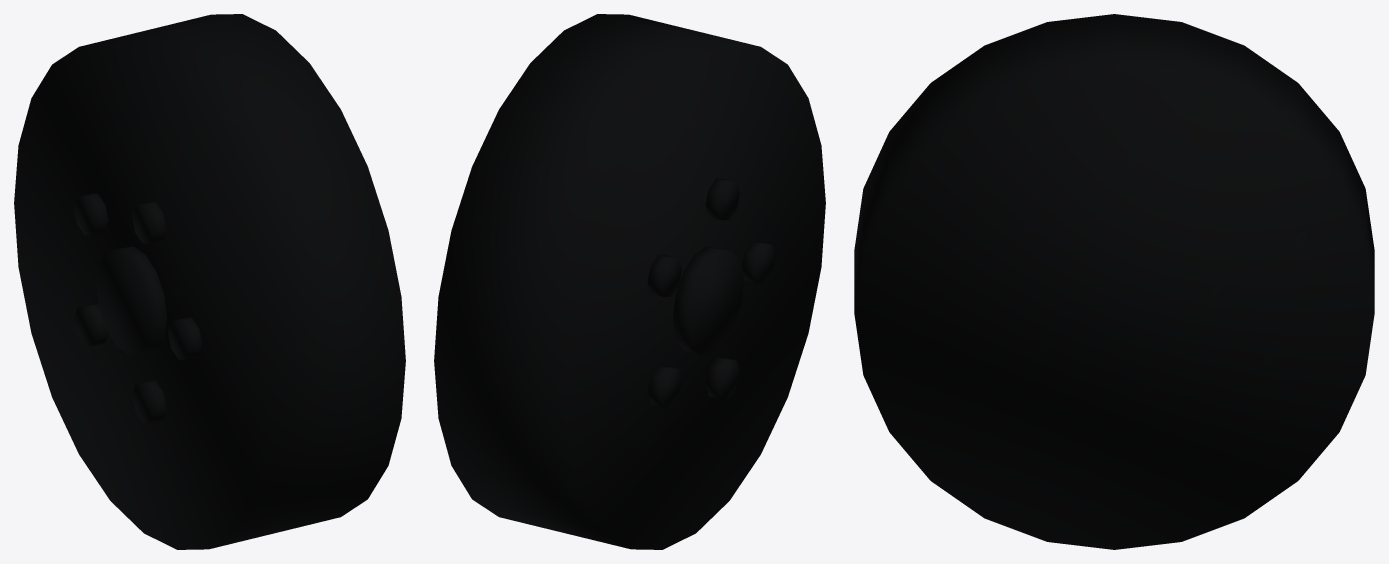
The picture shows the model from 3 angles, left to right: view 1: azimuth 30°, elevation 25°; view 2: azimuth 150°, elevation 25°; view 3: azimuth 270°, elevation 25°; orthographic projection.
Size of the model in its own units: 0.231 by 0.68 by 0.68.
Materials: 1 (1 with a texture image).
